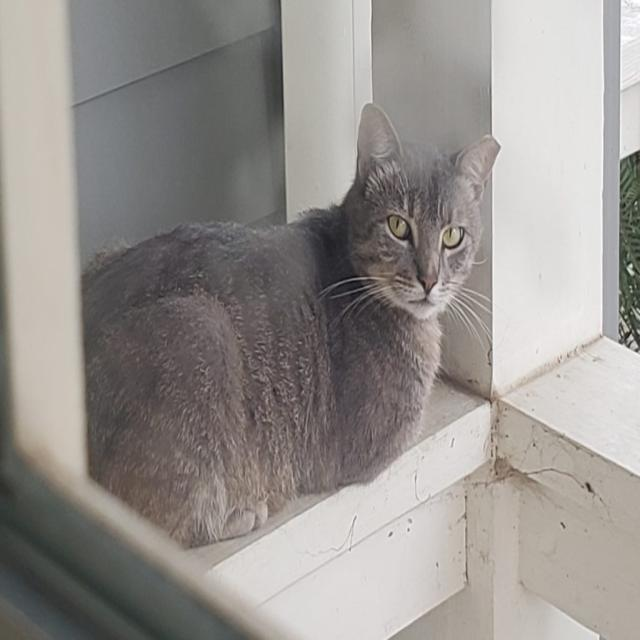cat: (82, 105, 499, 547)
